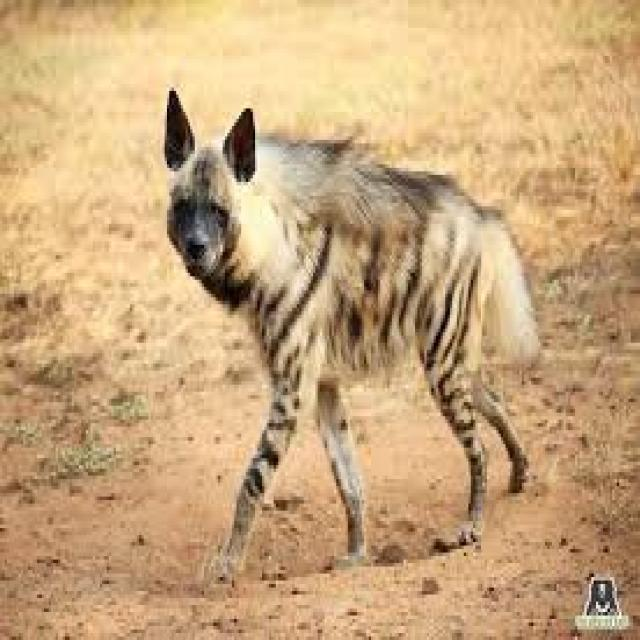Hyena: (161, 87, 536, 564)
